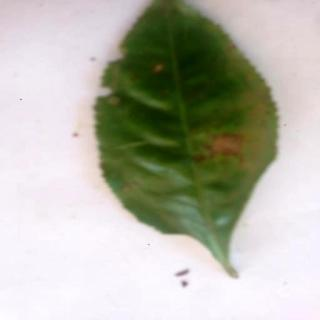Brown Blight: (97, 1, 281, 277)
